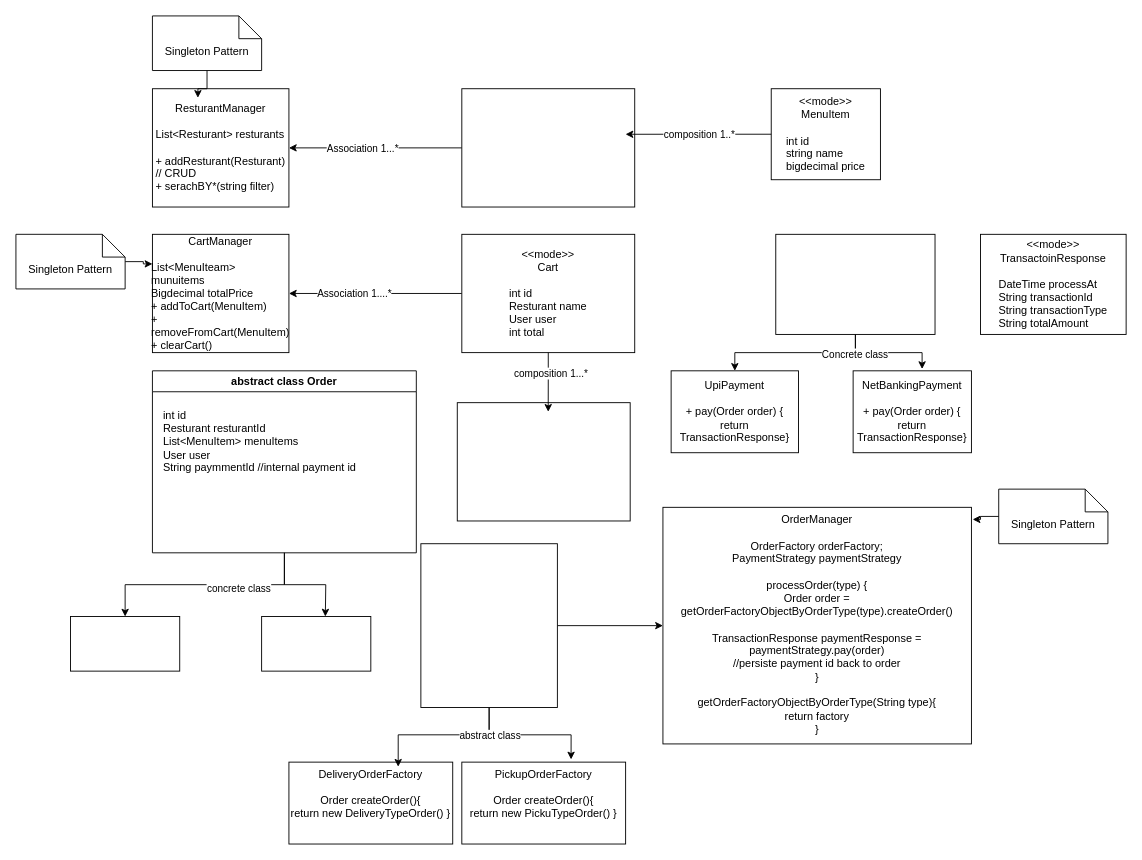
Image size: 1142x860. Some labels were removed from this diagram. Here are the shapes that lost their labels. From the top down, the centre of each, then its label:
(x=548, y=147): <<mode>> Resturant int id string name string address List<MenuItem> menuIteams
(x=855, y=283): «interface» PaymentStrategy + pay(Order order) : TransactionResponse
(x=543, y=461): <<mmodel>> User int id string name string address Cart
(x=125, y=643): DeliveryTypeOrder
(x=316, y=643): PickupTypeOrder
(x=488, y=625): «interface» OrderFactory createOrder() : Order
